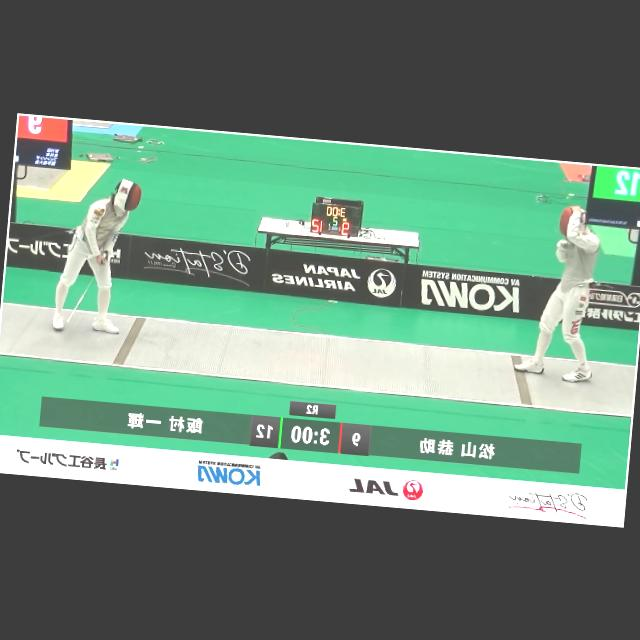blade: (62, 249, 110, 332)
